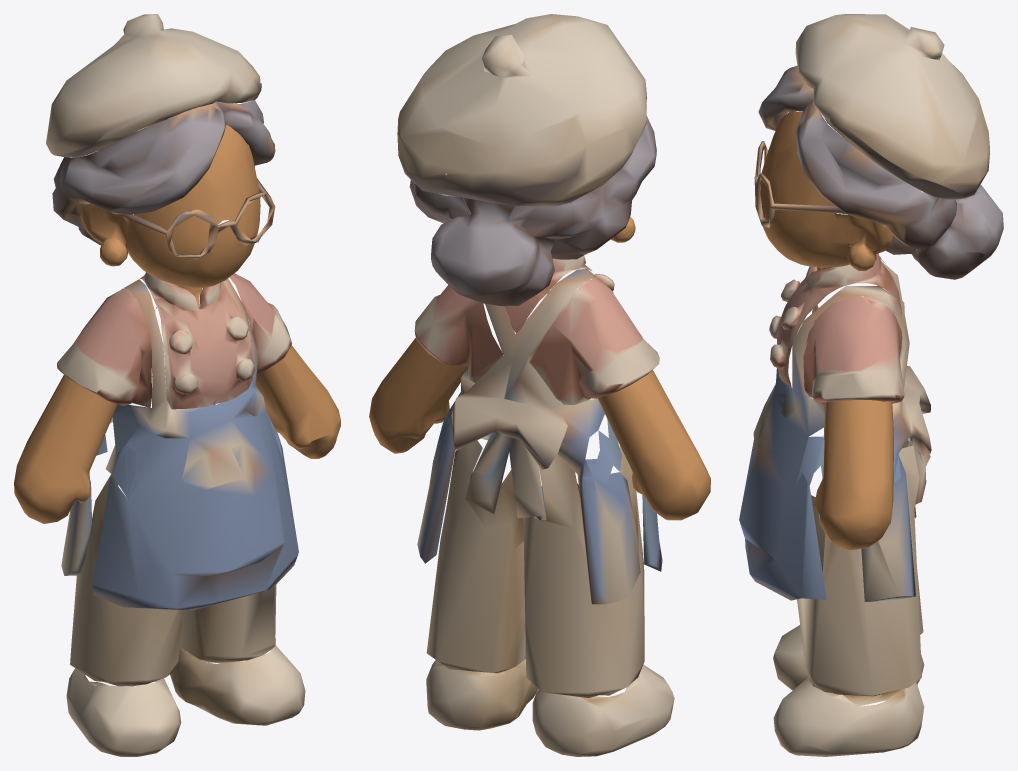
The picture shows the model from 3 angles, left to right: view 1: azimuth 30°, elevation 25°; view 2: azimuth 150°, elevation 25°; view 3: azimuth 270°, elevation 25°; orthographic projection. The views are drawn at different scales.
Parts seen in each view (by area): view 1: bottom, acc_head_0, hair, head, top, hand_r, sleeve_r, shoe_l, shoe_r, hand_l, sleeve_l; view 2: bottom, acc_head_0, hair, sleeve_r, hand_r, shoe_r, hand_l, shoe_l, sleeve_l, top; view 3: bottom, acc_head_0, hair, hand_l, sleeve_l, head, shoe_l, top, shoe_r.
Boxes of the visible parts, x1=… form: bottom: x1=61, y1=278, x2=298, y2=686; acc_head_0: x1=46, y1=14, x2=261, y2=157; hair: x1=52, y1=100, x2=275, y2=259; head: x1=80, y1=124, x2=260, y2=307; top: x1=140, y1=272, x2=254, y2=409; hand_r: x1=14, y1=375, x2=117, y2=523; sleeve_r: x1=57, y1=288, x2=151, y2=498; shoe_l: x1=170, y1=645, x2=305, y2=725; shoe_r: x1=66, y1=668, x2=181, y2=756; hand_l: x1=255, y1=345, x2=340, y2=458; sleeve_l: x1=229, y1=273, x2=292, y2=458; bottom: x1=417, y1=268, x2=662, y2=697; acc_head_0: x1=397, y1=14, x2=646, y2=206; hair: x1=409, y1=116, x2=656, y2=306; sleeve_r: x1=529, y1=277, x2=659, y2=488; hand_r: x1=597, y1=370, x2=710, y2=520; shoe_r: x1=532, y1=665, x2=674, y2=756; hand_l: x1=369, y1=338, x2=467, y2=453; shoe_l: x1=426, y1=659, x2=538, y2=730; sleeve_l: x1=414, y1=285, x2=502, y2=441; top: x1=504, y1=255, x2=614, y2=332; bottom: x1=739, y1=261, x2=931, y2=696; acc_head_0: x1=795, y1=14, x2=989, y2=199; hair: x1=754, y1=65, x2=1003, y2=279; hand_l: x1=814, y1=400, x2=893, y2=550; sleeve_l: x1=795, y1=296, x2=904, y2=486; head: x1=760, y1=111, x2=893, y2=270; shoe_l: x1=773, y1=678, x2=924, y2=756; top: x1=769, y1=253, x2=901, y2=387; shoe_r: x1=773, y1=625, x2=924, y2=692.
Size of the model in its own units: 0.5056 by 1.03 by 0.3606.
